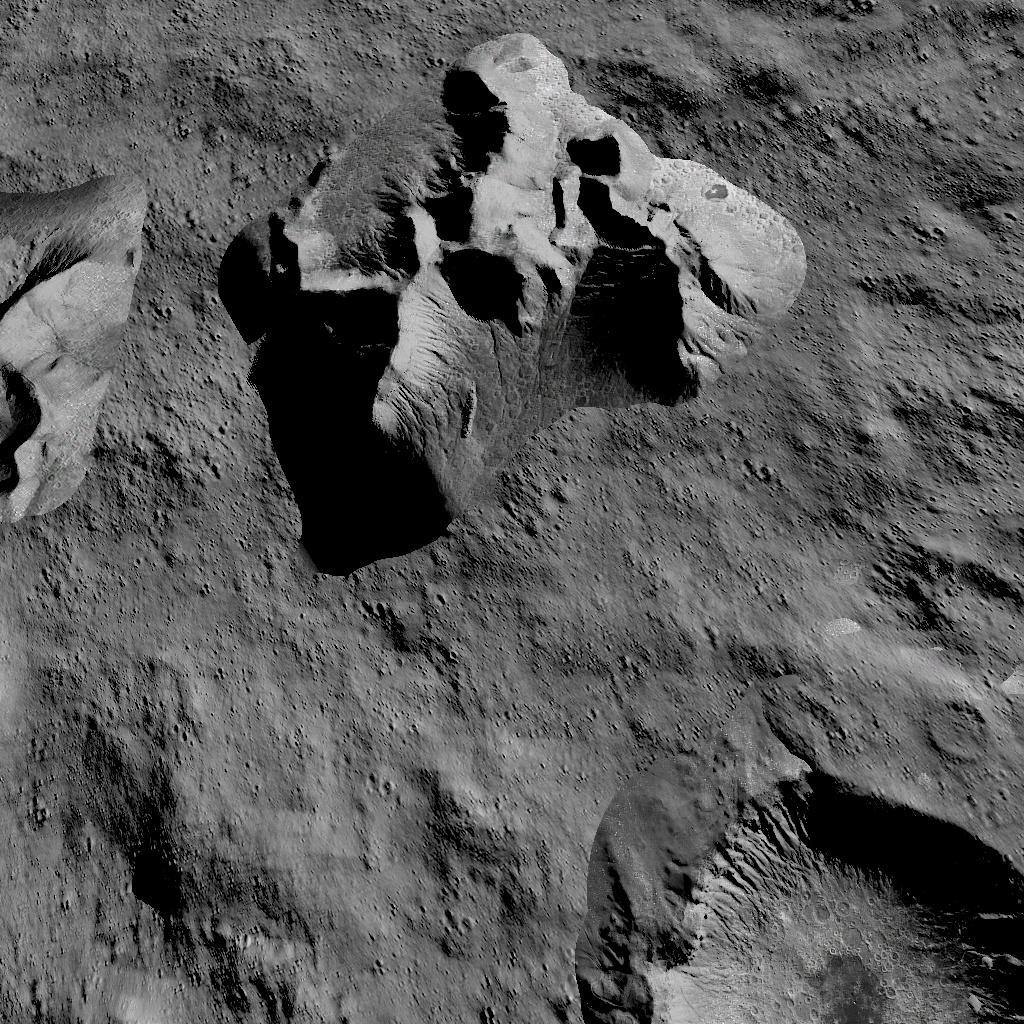Boulders: (203, 12, 809, 564), (0, 152, 153, 522), (72, 1000, 236, 1024)
Crater: (573, 742, 1024, 1024), (873, 528, 1024, 674), (118, 812, 224, 920)
Plan surface: (260, 582, 552, 1024), (829, 0, 1024, 501), (12, 580, 244, 792), (575, 569, 849, 719)
